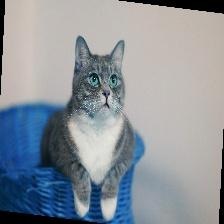kedo: (42, 35, 135, 220)
